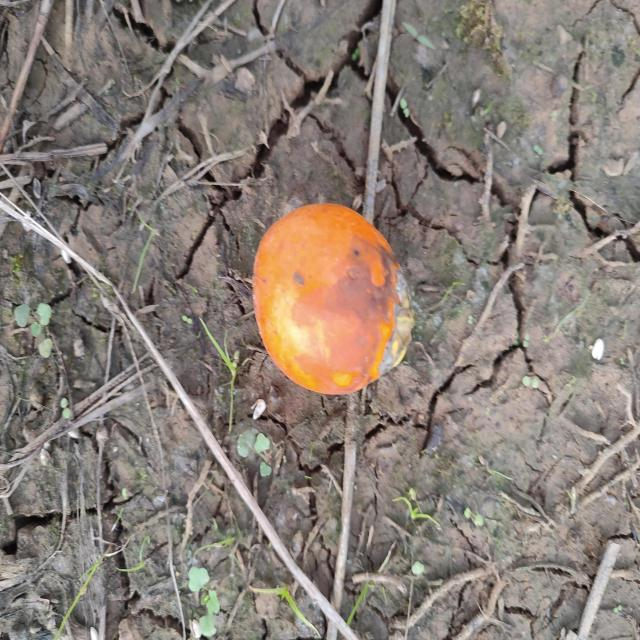good: (252, 204, 416, 397)
